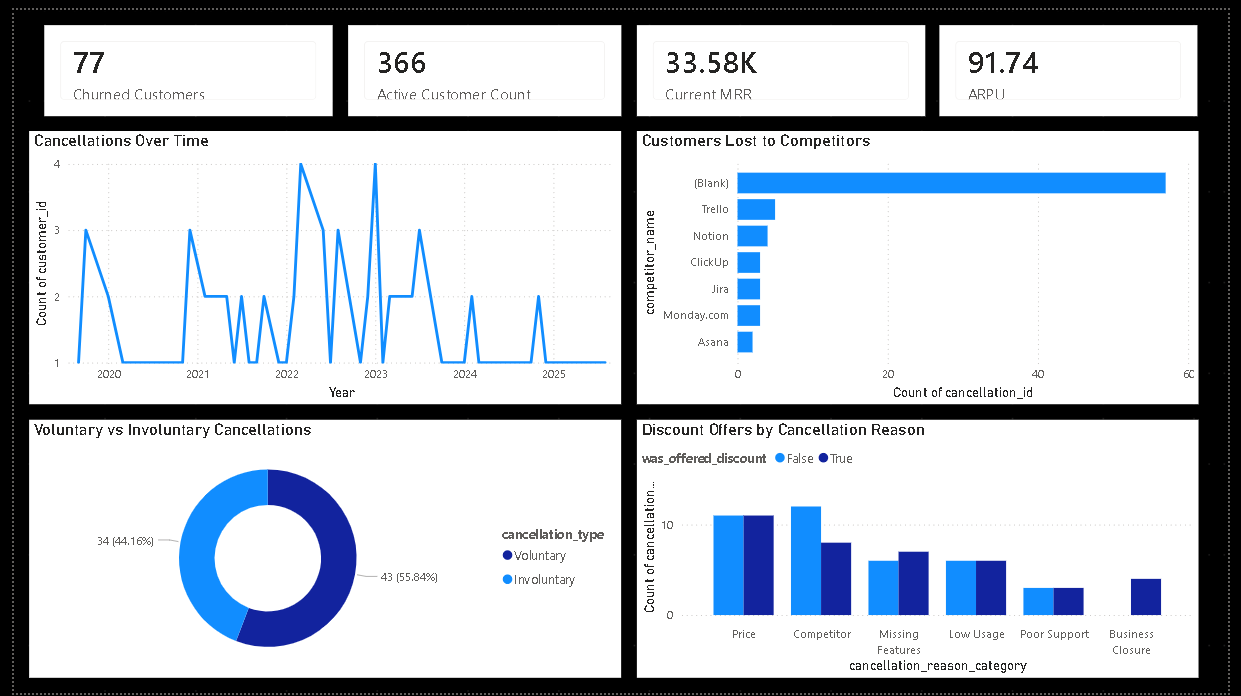

The page's visual inventory and layout, read from the dashboard file:
{"tool":"powerbi","page":{"name":"Churn Analysis","canvas":[1280,720],"ordinal":2},"visuals":[{"type":"cardVisual","fields":{"Data":["_Measures.Churned Customers"]},"box":[16,16,192,112],"z":0},{"type":"cardVisual","fields":{"Data":["_Measures.Active Customer Count"]},"box":[224,16,192,112],"z":1},{"type":"cardVisual","fields":{"Data":["_Measures.Current MRR"]},"box":[432,16,192,112],"z":2},{"type":"cardVisual","fields":{"Data":["_Measures.ARPU"]},"box":[640,16,192,112],"z":3},{"type":"lineChart","title":"Cancellations Over Time","fields":{"Y":["CountNonNull(public customers.customer_id)"],"Category":["public cancellations.cancellation_date.Variation.Date Hierarchy.Year","public cancellations.cancellation_date.Variation.Date Hierarchy.Month"]},"box":[16,144,400,288],"z":4},{"type":"donutChart","title":"Voluntary vs Involuntary Cancellations","fields":{"Category":["public cancellations.cancellation_type"],"Y":["CountNonNull(public cancellations.cancellation_id)"]},"box":[16,442,400,278],"z":5},{"type":"clusteredBarChart","title":"Customers Lost to Competitors","fields":{"Category":["public cancellations.competitor_name"],"Y":["CountNonNull(public cancellations.cancellation_id)"]},"box":[432,144,400,288],"z":6},{"type":"clusteredColumnChart","title":"Discount Offers by Cancellation Reason","fields":{"Category":["public cancellations.cancellation_reason_category"],"Y":["CountNonNull(public cancellations.cancellation_id)"],"Series":["public cancellations.was_offered_discount"]},"box":[432,442,400,278],"z":7}]}

Visuals, with their boxes in screenshot pixels (x1, y1, x2, y2), scaled from the page's 1280x720 canvas onto the 1241x696 screenshot:
cardVisual - _Measures.Churned Customers: bbox(16, 15, 202, 124)
cardVisual - _Measures.Active Customer Count: bbox(217, 15, 403, 124)
cardVisual - _Measures.Current MRR: bbox(419, 15, 605, 124)
cardVisual - _Measures.ARPU: bbox(620, 15, 807, 124)
"Cancellations Over Time" lineChart: bbox(16, 139, 403, 418)
"Voluntary vs Involuntary Cancellations" donutChart: bbox(16, 427, 403, 695)
"Customers Lost to Competitors" clusteredBarChart: bbox(419, 139, 807, 418)
"Discount Offers by Cancellation Reason" clusteredColumnChart: bbox(419, 427, 807, 695)
